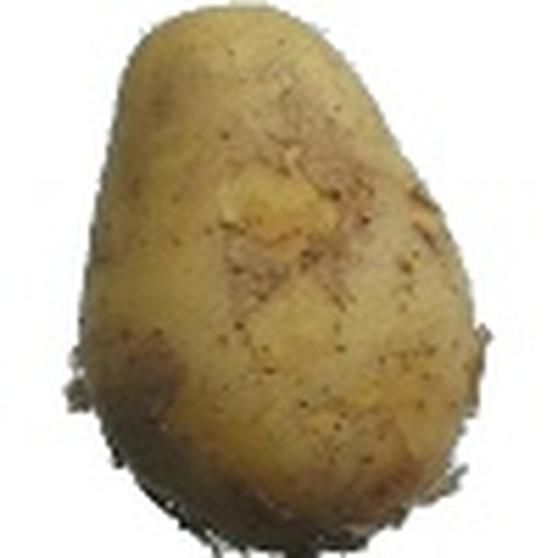potato: (71, 6, 501, 558)
